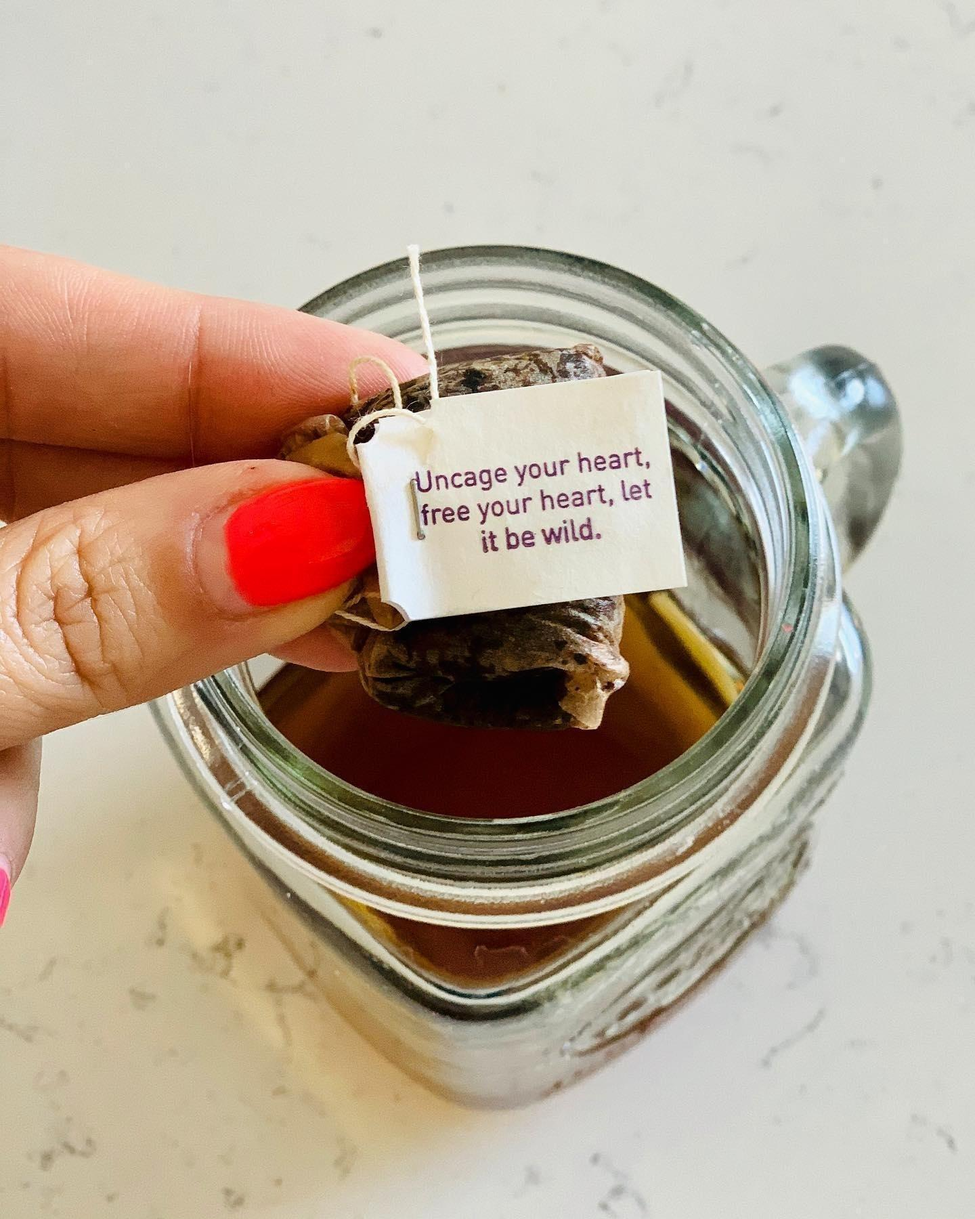glass-mug: (116, 227, 917, 1124)
